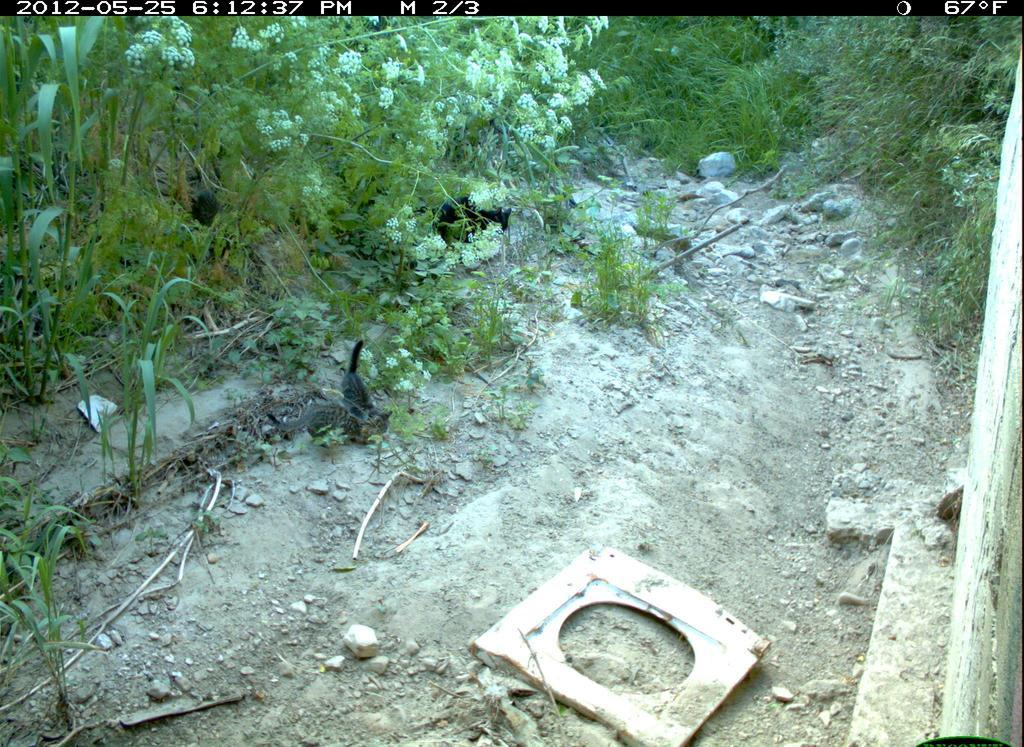cat: (299, 312, 438, 477)
